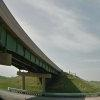Bridge: (10, 5, 84, 87)
